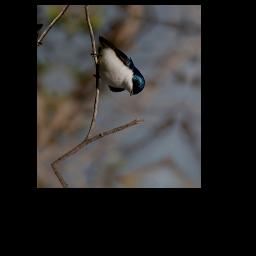Swallow: (81, 34, 155, 98)
